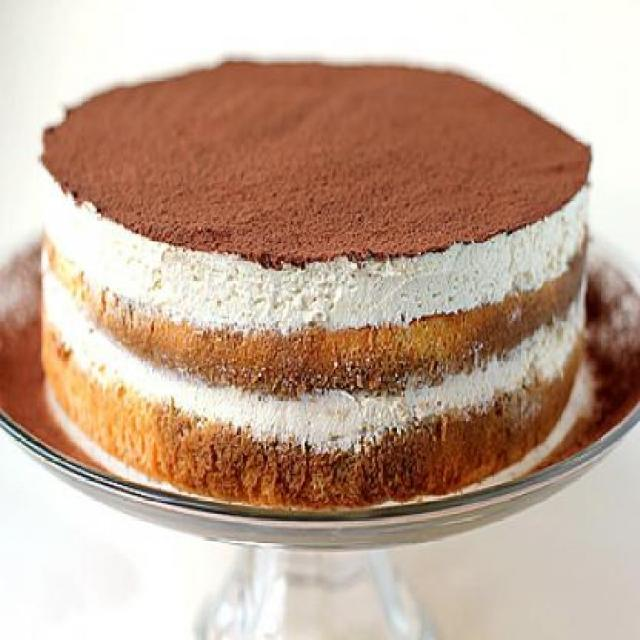Tiramisu: (37, 37, 590, 494)
